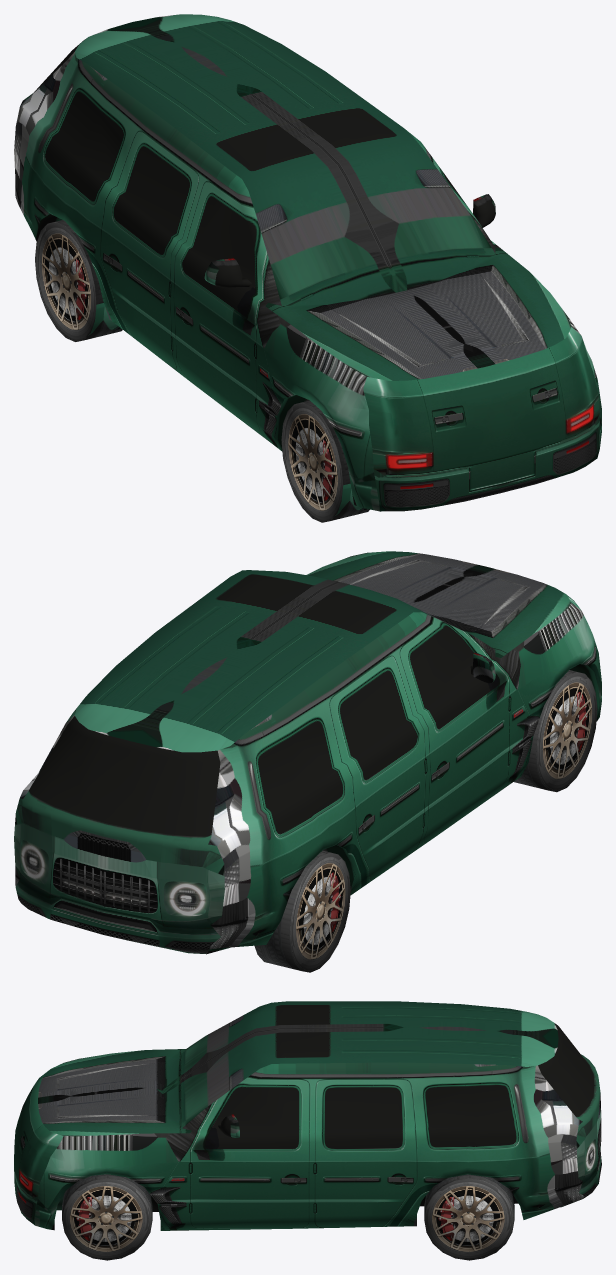
File: cars 16.fbx
3 renders of one model, top to bottom at view 1: azimuth 30°, elevation 25°; view 2: azimuth 150°, elevation 25°; view 3: azimuth 270°, elevation 25°, orthographic. The views are drawn at different scales.
Parts seen in each view (by area): view 1: body, L_tyer, B_L_tyer; view 2: body, B_L_tyer, L_tyer; view 3: body, R_tyer, B_R_tyer.
Part boxes in pixels (bbox=[...]): body: bbox=[14, 14, 601, 511]; L_tyer: bbox=[281, 400, 369, 522]; B_L_tyer: bbox=[35, 220, 122, 341]; body: bbox=[14, 551, 601, 954]; B_L_tyer: bbox=[254, 850, 350, 972]; L_tyer: bbox=[514, 670, 597, 792]; body: bbox=[14, 1001, 601, 1230]; R_tyer: bbox=[62, 1174, 152, 1260]; B_R_tyer: bbox=[424, 1174, 514, 1260].
Bounding box in the file's own units: 509 × 431 × 1222.
